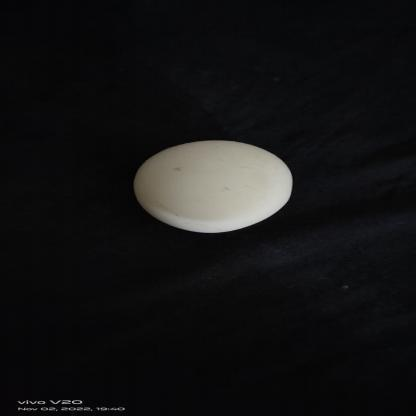egg: (133, 138, 298, 236)
